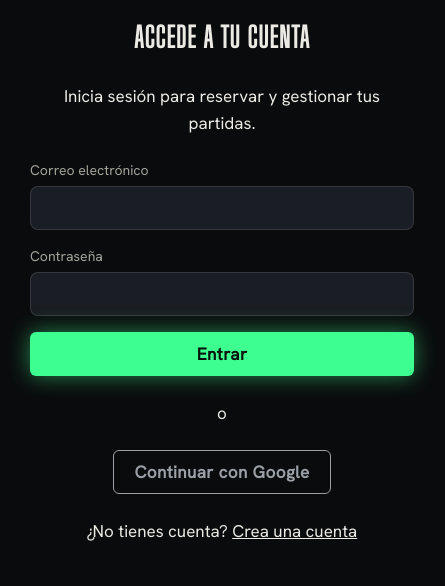
RegisterPage › links /register and /login to each other
This screenshot has width=445, height=586.
What coordinates should you click on to do the following:
click the link "Crea una cuenta"
I would click on:
 (295, 531)
Its box is left=232, top=520, right=357, bottom=542.
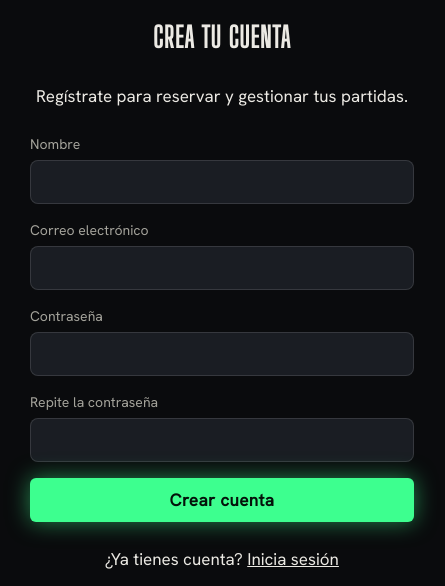
Check: the heading "Crea tu cuenta" is shown, box left=153, top=16, right=291, bottom=59
What coordinates should you click on to do the following:
click the link "Inicia sesión"
I would click on:
 (293, 559)
Its box is left=247, top=548, right=339, bottom=570.
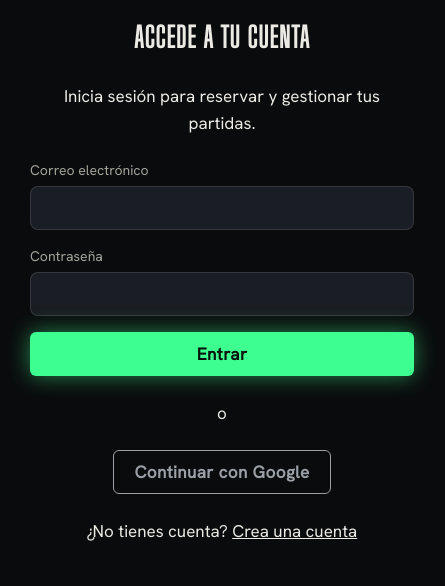
Check: the heading "Accede a tu cuenta" is shown, box left=134, top=16, right=310, bottom=59
